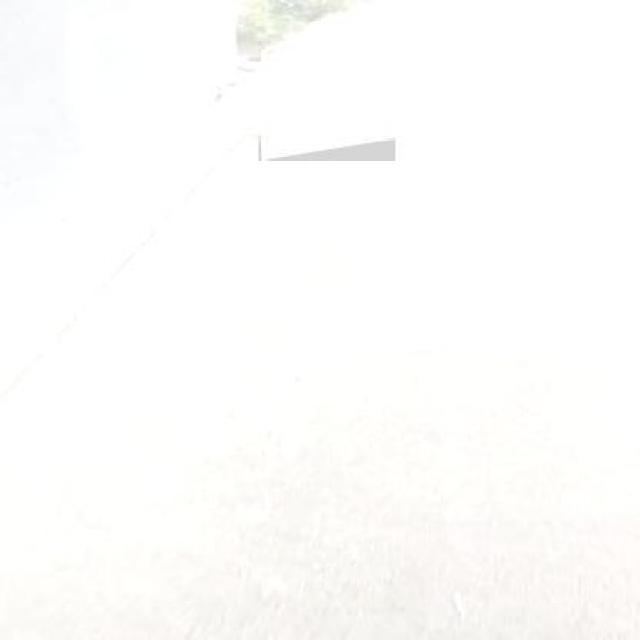Manhole: (258, 129, 396, 160)
